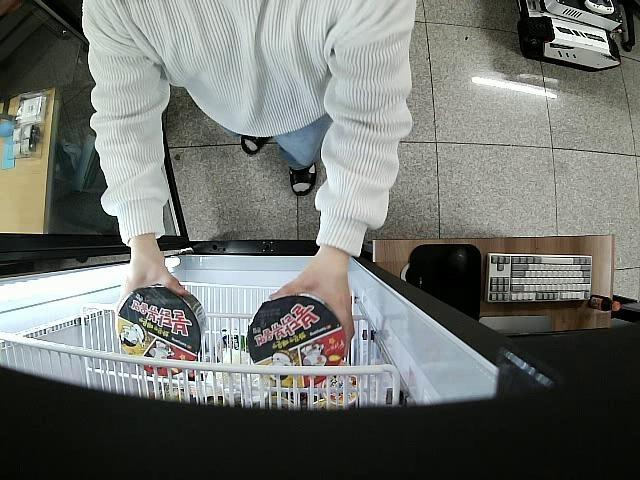07_buldak_L: (247, 294, 348, 388), (118, 286, 209, 376)
